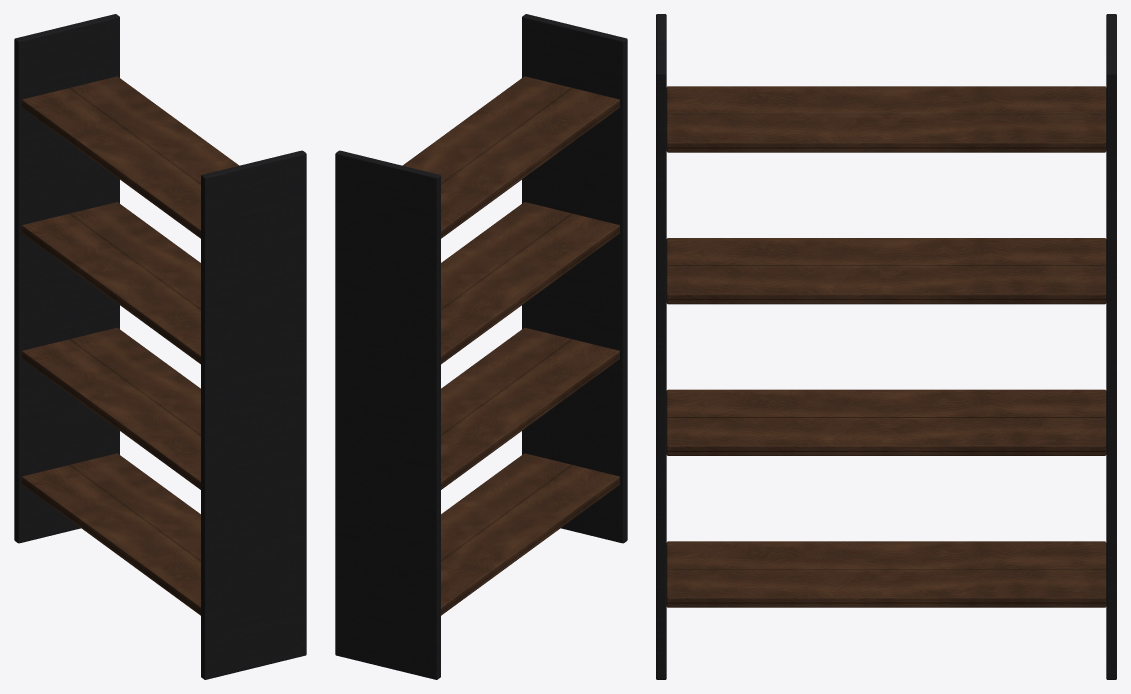
Rendered from utility_shelving.glb.
3 views of the same model, side by side, from view 1: azimuth 30°, elevation 25°; view 2: azimuth 150°, elevation 25°; view 3: azimuth 270°, elevation 25° (orthographic). The views are drawn at different scales.
Parts seen in each view (by area): view 1: utility_shelving; view 2: utility_shelving; view 3: utility_shelving.
Boxes of the visible parts, bbox=[...] form: utility_shelving: bbox=[14, 14, 306, 679]; utility_shelving: bbox=[335, 14, 627, 679]; utility_shelving: bbox=[656, 14, 1116, 679].
Size of the model in its own units: 0.34 by 1.6 by 1.1.
Materials: 2 (2 with a texture image).
